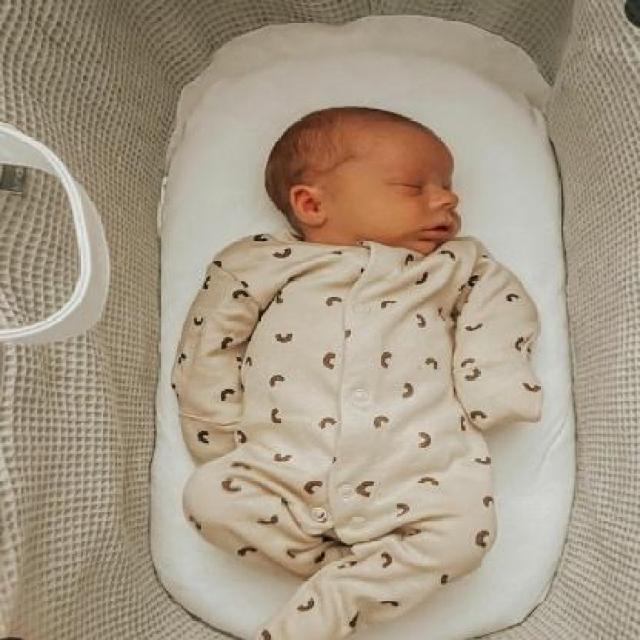baby: (168, 103, 542, 639)
